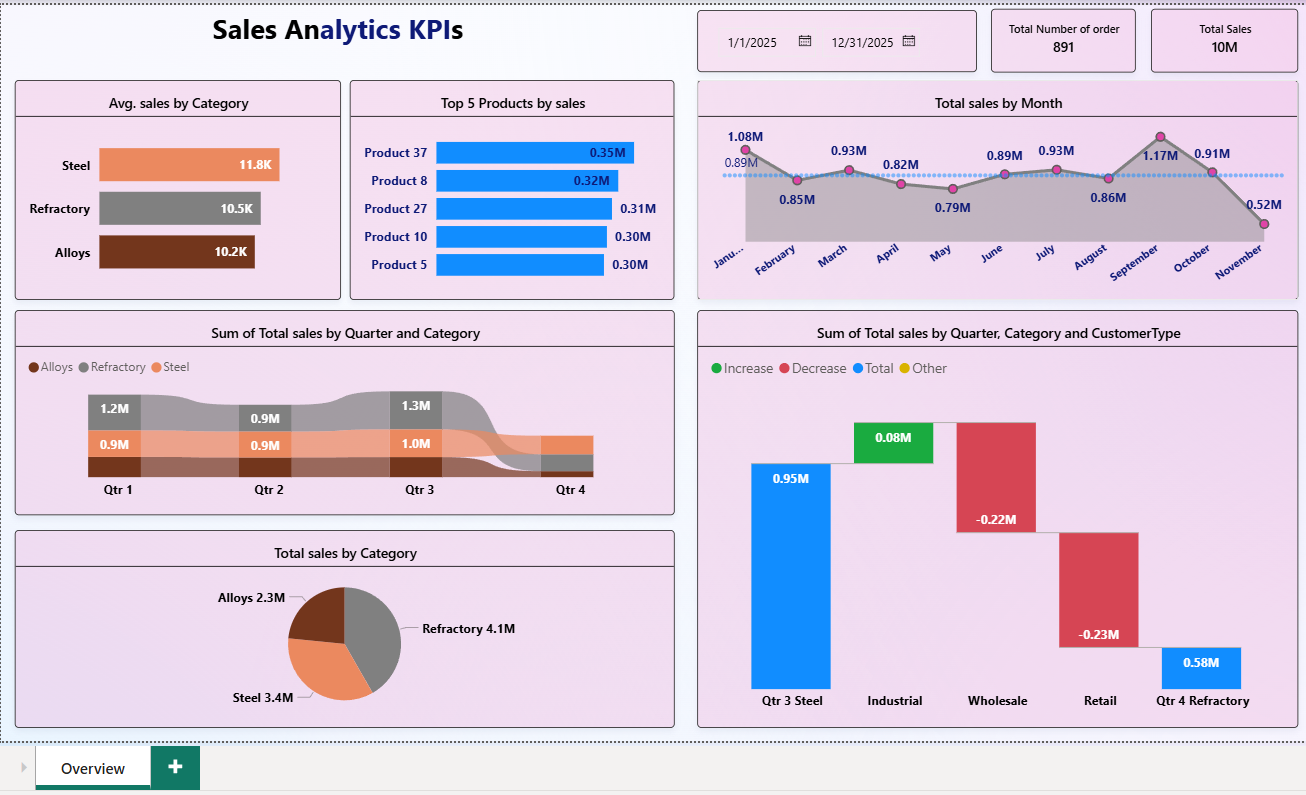

Layout of this report page (visuals, bound fields, positions):
{"tool":"powerbi","page":{"name":"Page 1","canvas":[1280,720],"ordinal":0},"visuals":[{"type":"lineChart","title":"Total sales by Month","fields":{"Category":["DateTable.Date.Variation.Date Hierarchy.Month"],"Y":["Sum(FactSales.Total sales)"]},"box":[681.1,73.4,588.2,215.2],"z":0},{"type":"barChart","title":"Avg. sales by Category","fields":{"Category":["DimProduct.Category"],"Y":["Avg(FactSales.Total sales)"]},"box":[13.5,73.4,319.2,215.2],"z":1000},{"type":"barChart","title":"Top 5 Products by sales","fields":{"Y":["Sum(FactSales.Total sales)"],"Category":["DimProduct.ProductName"]},"box":[341.2,73.4,317.9,215.2],"z":2000},{"type":"pieChart","title":"Total sales by Category","fields":{"Category":["DimProduct.Category"],"Y":["Sum(FactSales.Total sales)"]},"box":[13.5,513.6,645.7,193.2],"z":3000},{"type":"card","title":"Total Sales","fields":{"Values":["Sum(FactSales.Total sales)"]},"box":[1125,3.7,144.3,62.4],"z":4000},{"type":"card","title":"Total Number of order","fields":{"Values":["Count(FactSales.SalesID)"]},"box":[968.5,3.7,141.8,62.4],"z":5000},{"type":"ribbonChart","fields":{"Category":["DateTable.Date.Variation.Date Hierarchy.Quarter"],"Y":["Sum(FactSales.Total sales)"],"Series":["DimProduct.Category"]},"box":[13.5,298.4,645.7,200.5],"z":6000},{"type":"textbox","box":[0,0,659.1,56.3],"z":7000},{"type":"slicer","fields":{"Values":["DateTable.Date"]},"box":[681.1,4.9,273.9,61.1],"z":8000},{"type":"waterfallChart","fields":{"Category":["DateTable.Date.Variation.Date Hierarchy.Quarter","DimProduct.Category"],"Breakdown":["DimCustomer.CustomerType"],"Y":["Sum(FactSales.Total sales)"]},"box":[681.1,298.4,588.2,408.4],"z":9000}]}

Visuals, with their boxes on the page's 1280x720 design canvas (x1, y1, x2, y2). These are canvas units, not pixel positions in the 1306x795 screenshot, which may show the page scaled, cropped or inside an application window:
"Total sales by Month" lineChart: [681,73,1269,289]
"Avg. sales by Category" barChart: [14,73,333,289]
"Top 5 Products by sales" barChart: [341,73,659,289]
"Total sales by Category" pieChart: [14,514,659,707]
"Total Sales" card: [1125,4,1269,66]
"Total Number of order" card: [968,4,1110,66]
ribbonChart - DateTable.Date.Variation.Date Hierarchy.Quarter x Sum(FactSales.Total sales): [14,298,659,499]
textbox: [0,0,659,56]
slicer - DateTable.Date: [681,5,955,66]
waterfallChart - DateTable.Date.Variation.Date Hierarchy.Quarter x DimProduct.Category: [681,298,1269,707]
